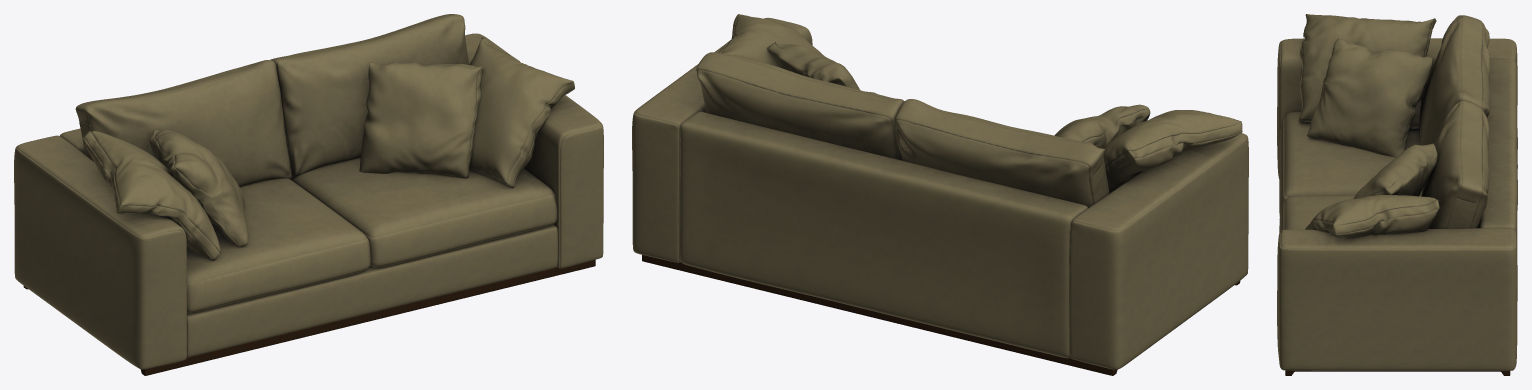
The model's file is trento-velvet.glb.
The picture shows the model from 3 angles, left to right: view 1: azimuth 30°, elevation 25°; view 2: azimuth 150°, elevation 25°; view 3: azimuth 270°, elevation 25°; orthographic projection. The views are drawn at different scales.
Visible parts, largest first — view 1: back up pillow.001, Pillow.003, frame.002; view 2: back up pillow.001, Pillow.003, frame.002; view 3: back up pillow.001, Pillow.003, frame.002.
Part boxes in pixels (<box>): back up pillow.001: <box>14,14,603,369</box>; Pillow.003: <box>83,37,574,260</box>; frame.002: <box>23,259,595,375</box>; back up pillow.001: <box>632,17,1248,369</box>; Pillow.003: <box>719,14,1242,192</box>; frame.002: <box>642,255,1240,375</box>; back up pillow.001: <box>1277,15,1517,370</box>; Pillow.003: <box>1298,14,1439,237</box>; frame.002: <box>1285,370,1510,375</box>.
Size of the model in its own units: 2.29 by 0.886 by 1.09.
Materials: 3 (2 with a texture image).
